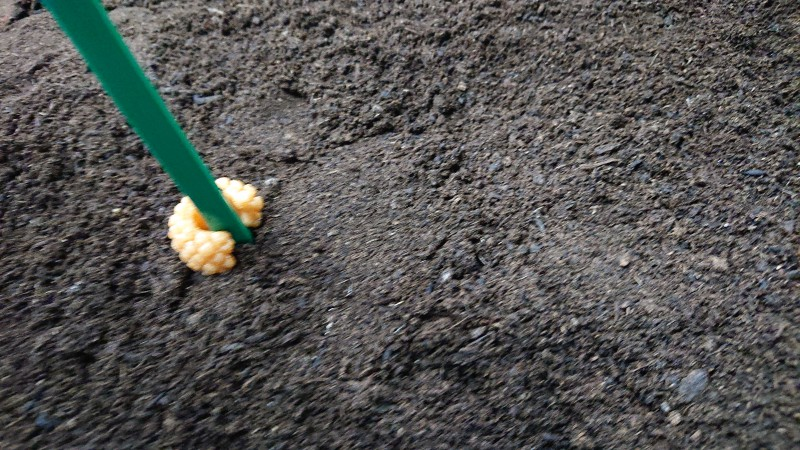eggs: (162, 176, 269, 276)
